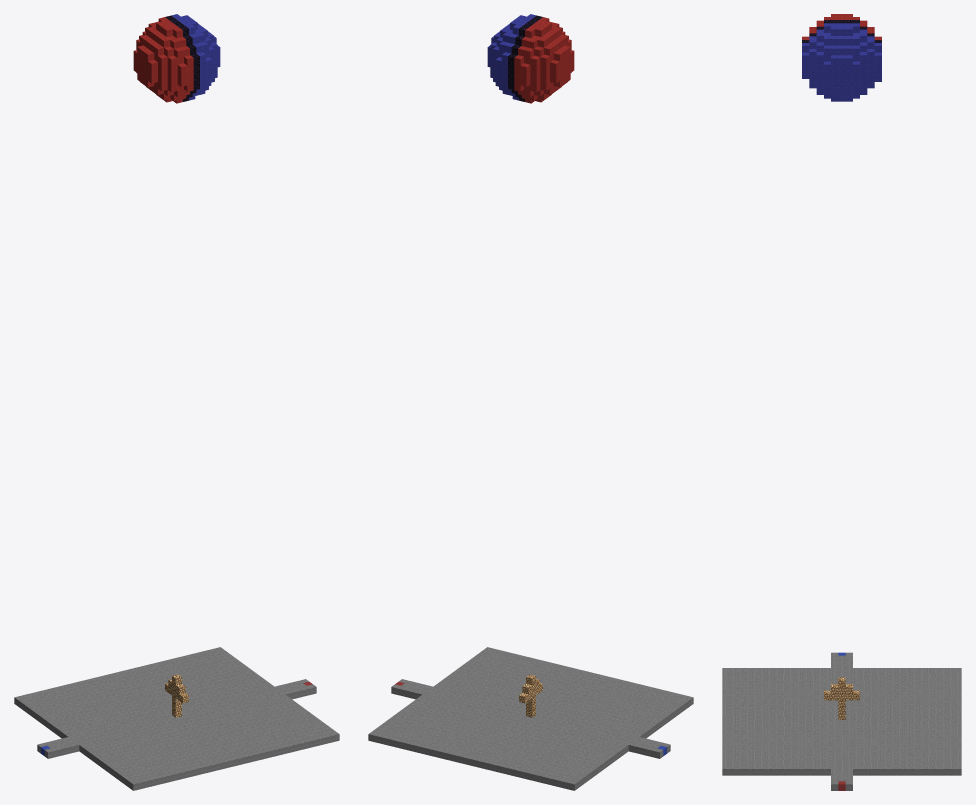
File: minecraft.obj
3 renders of one model, left to right at view 1: azimuth 30°, elevation 25°; view 2: azimuth 150°, elevation 25°; view 3: azimuth 270°, elevation 25°, orthographic.
Bounding box in the file's own units: 43 × 107 × 33.
